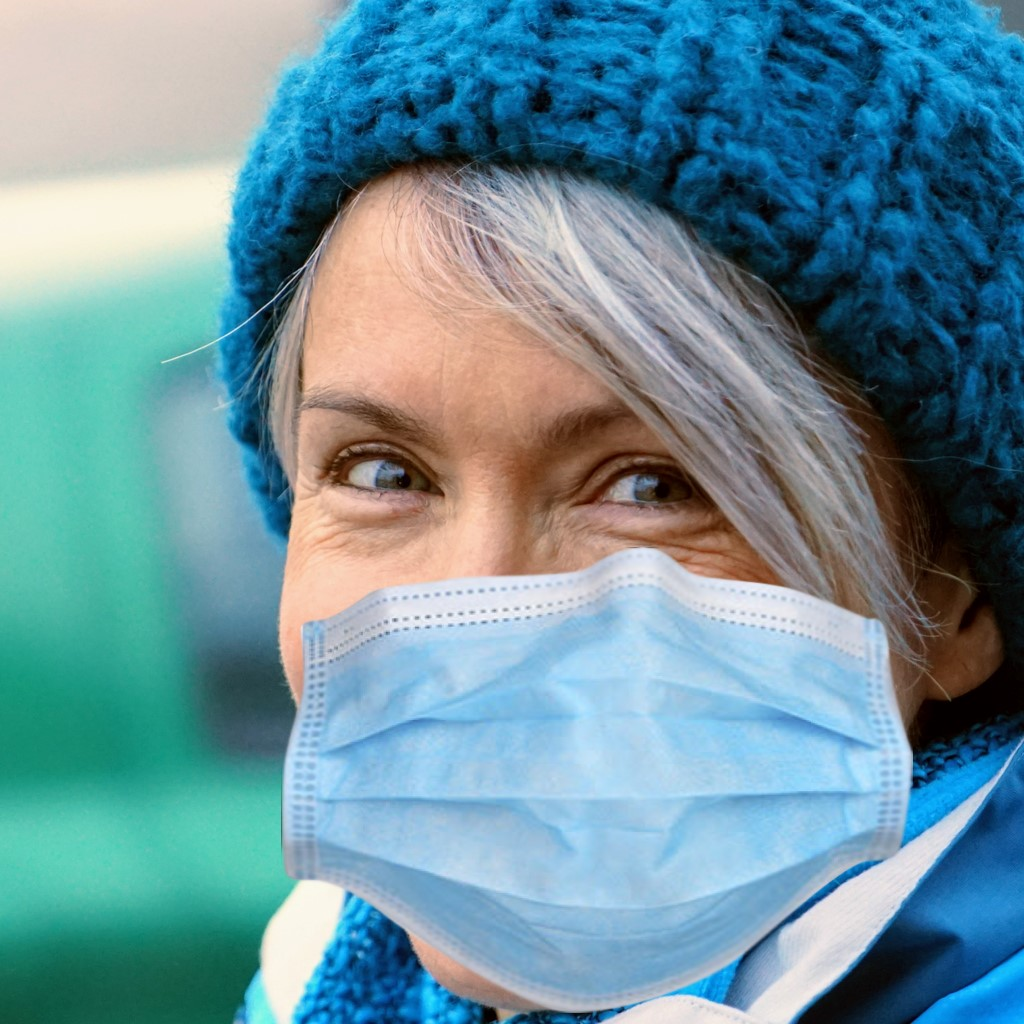con_mascara: (271, 189, 919, 990)
